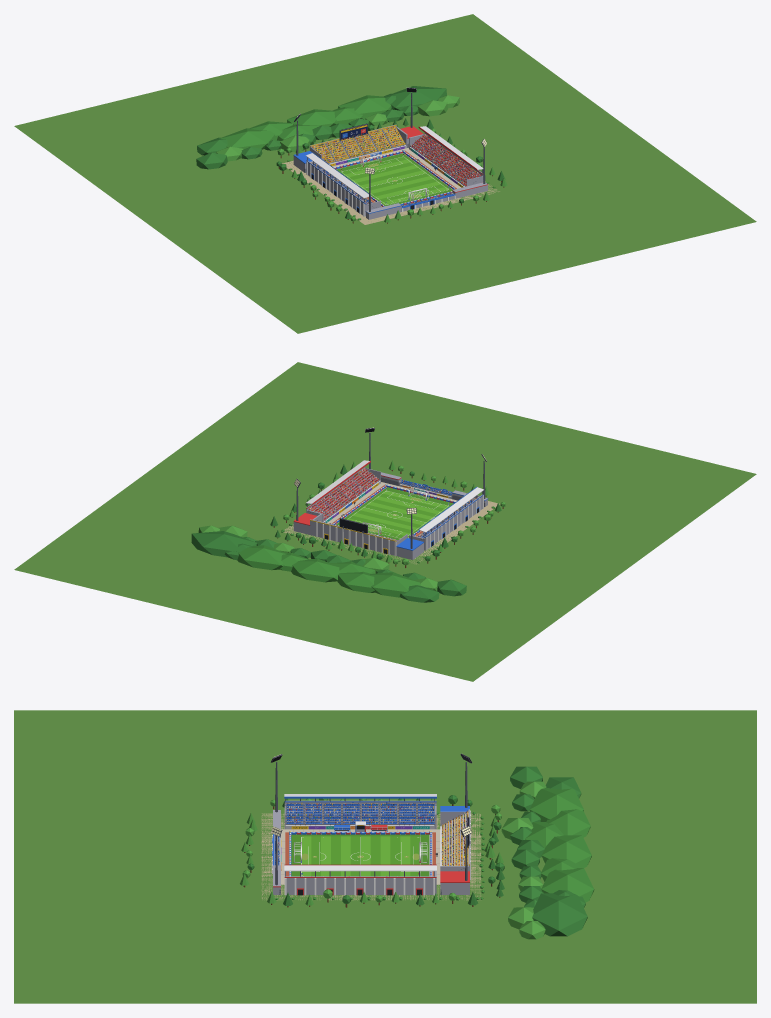
File: campo.glb
3 views of the same model, one above another, from view 1: azimuth 30°, elevation 25°; view 2: azimuth 150°, elevation 25°; view 3: azimuth 270°, elevation 25° (orthographic). The views are drawn at different scales.
Visible parts, largest first — view 1: Exterior_Suelo, Arboles, Grada_Izquierda, Cesped, Banderines, Publico, Grada_Fondo_Rival, Bordillo, Grada_Derecha, Porteria_Propia_Marco; view 2: Exterior_Suelo, Arboles, Grada_Izquierda, Cesped, Banderines, Publico, Grada_Derecha, Bordillo, Porteria_Propia_Marco; view 3: Exterior_Suelo, Arboles, Grada_Izquierda, Cesped, Banderines, Publico, Bordillo, Pavimento, Porteria_Propia_Marco, Grada_Fondo_Rival.
Boxes of the visible parts, left/top/right/bottom form: Exterior_Suelo: left=14, top=14, right=756, bottom=333; Arboles: left=196, top=86, right=507, bottom=223; Grada_Izquierda: left=293, top=87, right=487, bottom=219; Cesped: left=336, top=153, right=452, bottom=205; Banderines: left=293, top=126, right=488, bottom=216; Publico: left=311, top=126, right=479, bottom=206; Grada_Fondo_Rival: left=312, top=126, right=405, bottom=162; Bordillo: left=315, top=129, right=476, bottom=189; Grada_Derecha: left=410, top=134, right=481, bottom=186; Porteria_Propia_Marco: left=296, top=92, right=485, bottom=211; Exterior_Suelo: left=14, top=362, right=756, bottom=681; Arboles: left=191, top=461, right=505, bottom=602; Grada_Izquierda: left=293, top=427, right=487, bottom=559; Cesped: left=336, top=487, right=453, bottom=539; Banderines: left=293, top=461, right=488, bottom=556; Publico: left=309, top=468, right=479, bottom=540; Grada_Derecha: left=308, top=468, right=378, bottom=519; Bordillo: left=313, top=470, right=452, bottom=524; Porteria_Propia_Marco: left=296, top=433, right=485, bottom=548; Exterior_Suelo: left=14, top=710, right=756, bottom=1003; Arboles: left=240, top=766, right=594, bottom=939; Grada_Izquierda: left=271, top=753, right=472, bottom=895; Cesped: left=291, top=834, right=429, bottom=876; Banderines: left=272, top=796, right=470, bottom=895; Publico: left=275, top=803, right=467, bottom=865; Bordillo: left=277, top=807, right=465, bottom=876; Pavimento: left=281, top=829, right=440, bottom=884; Porteria_Propia_Marco: left=275, top=761, right=470, bottom=885; Grada_Fondo_Rival: left=442, top=812, right=467, bottom=865.
Size of the model in its own units: 280 by 36.7 by 300.
